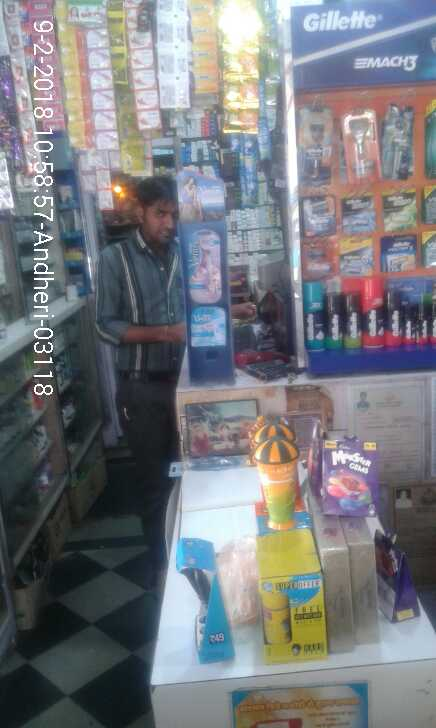beauty: (186, 231, 224, 303), (299, 110, 334, 185), (344, 112, 378, 184), (386, 106, 413, 189), (301, 284, 329, 348), (361, 278, 386, 344), (303, 241, 347, 278), (342, 238, 383, 276), (190, 307, 228, 345), (340, 197, 376, 236), (383, 237, 424, 271), (381, 196, 417, 231), (303, 201, 338, 236), (344, 294, 365, 349), (386, 289, 403, 348), (329, 295, 347, 348), (403, 304, 416, 346)
